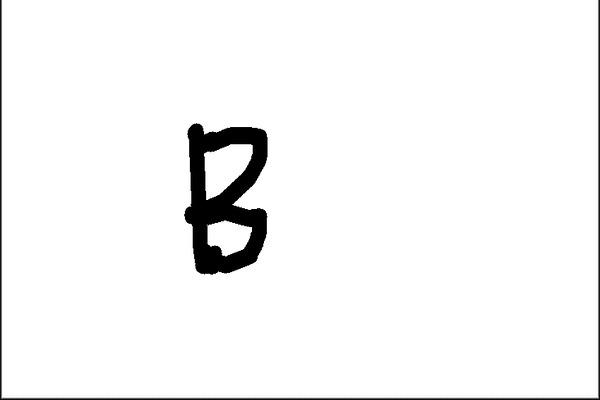B: (177, 113, 275, 282)
